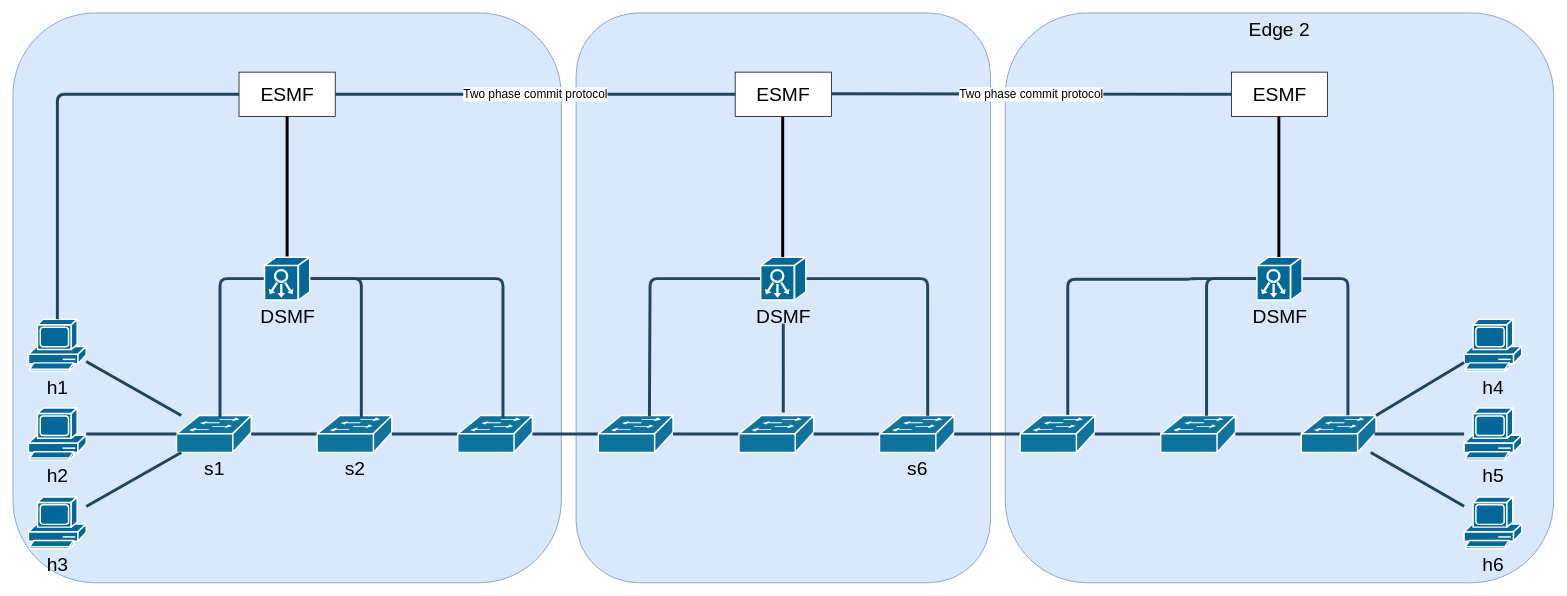
The diagram is 1567 pixels wide and 596 high, and some of its shapes have lost their labels. Each missing label, with the box of its shape:
Black network: (575, 12, 990, 583)
Edge 1: (12, 12, 561, 583)
s3: (457, 414, 533, 453)
s4: (597, 414, 673, 453)
s5: (738, 414, 814, 453)
s7: (1019, 414, 1095, 453)
s8: (1160, 414, 1236, 453)
s9: (1300, 414, 1376, 453)
